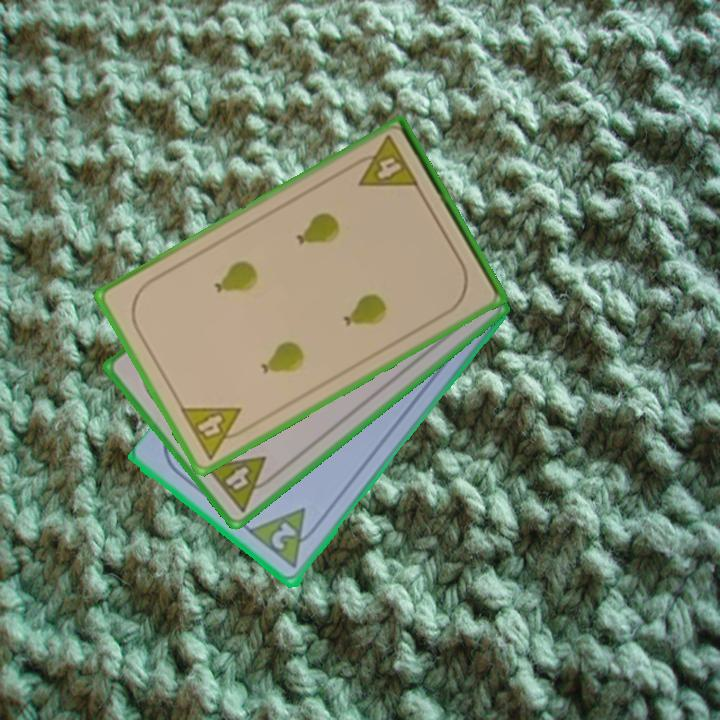2p: (267, 519, 300, 554)
4p: (201, 452, 282, 515), (176, 403, 254, 463), (346, 132, 422, 191)
